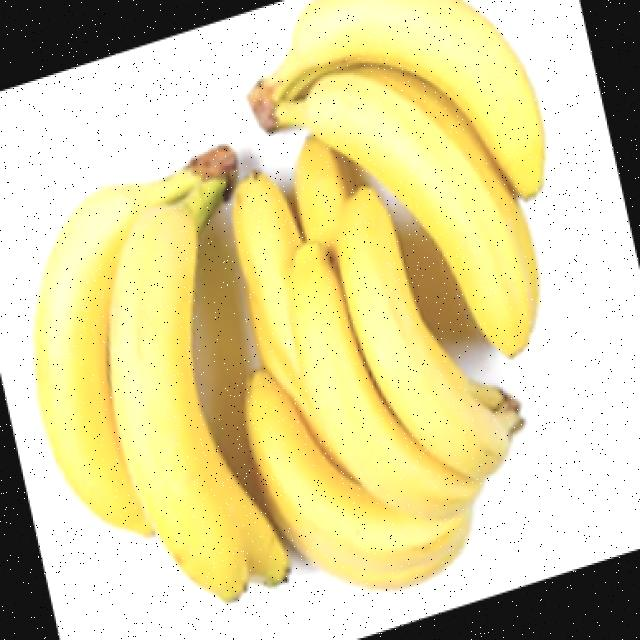god quality banana: (234, 0, 546, 588), (35, 146, 290, 601)
